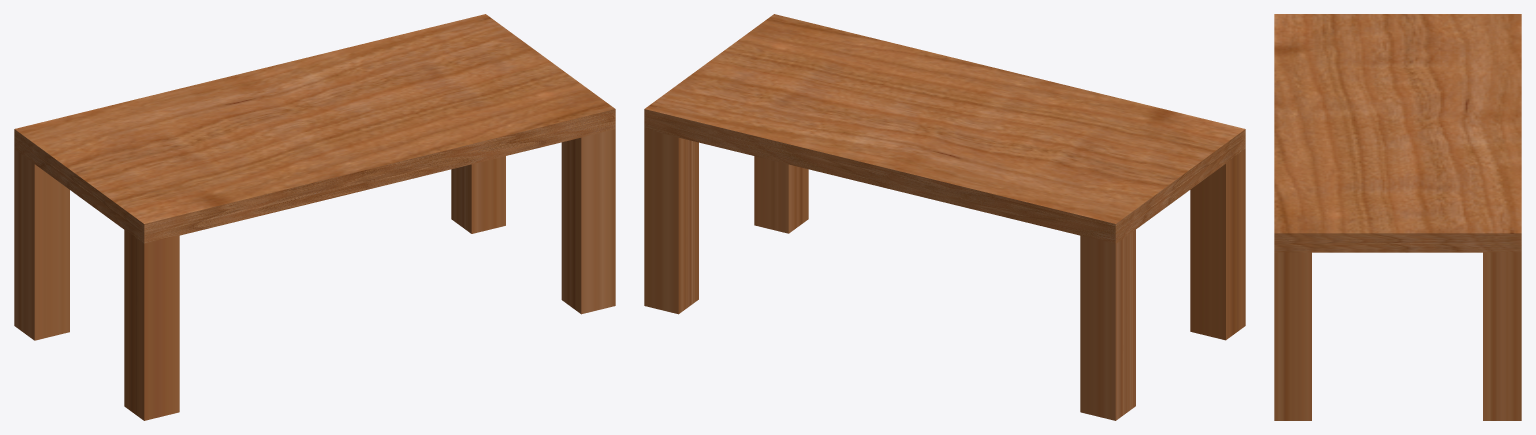
The model's file is mesa.glb.
The picture shows the model from 3 angles, left to right: view 1: azimuth 30°, elevation 25°; view 2: azimuth 150°, elevation 25°; view 3: azimuth 270°, elevation 25°; orthographic projection. The views are drawn at different scales.
Parts seen in each view (by area): view 1: Cube; view 2: Cube; view 3: Cube.
Boxes of the visible parts, bbox=[...] form: Cube: bbox=[14, 14, 615, 420]; Cube: bbox=[644, 14, 1245, 420]; Cube: bbox=[1274, 14, 1521, 420].
Size of the model in its own units: 2 by 0.7985 by 0.954.
Materials: 1 (1 with a texture image).
